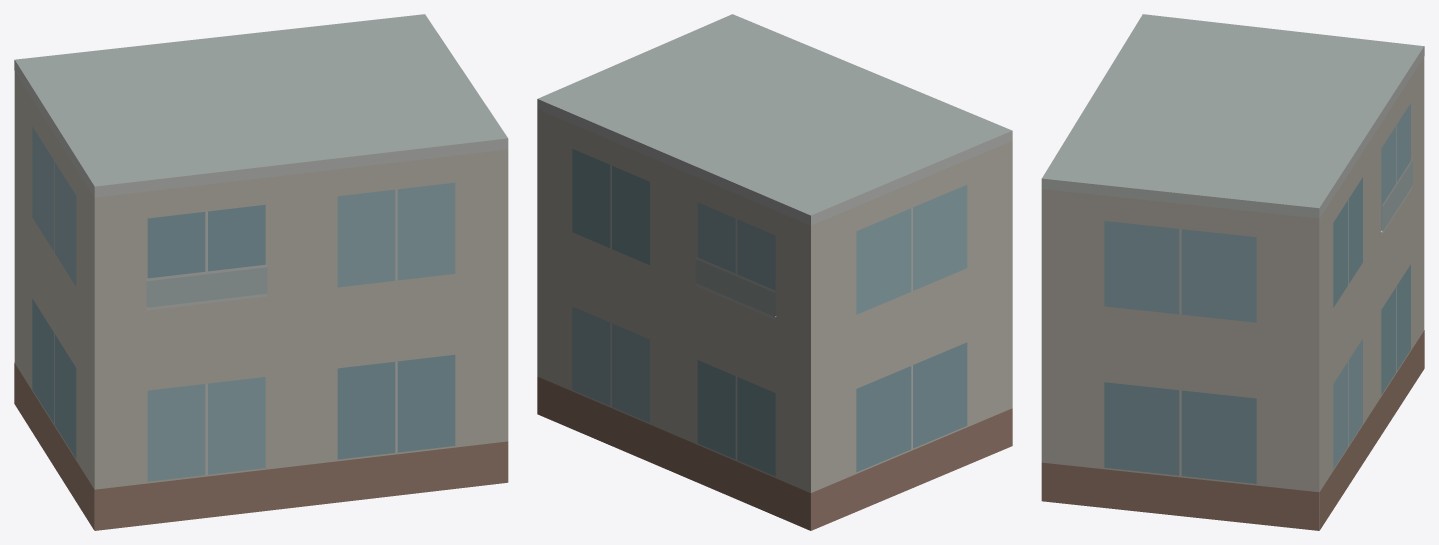
Rendered from survey-upis-33004015.glb.
3 renders of one model, left to right at view 1: azimuth 30°, elevation 25°; view 2: azimuth 150°, elevation 25°; view 3: azimuth 270°, elevation 25°, orthographic. The views are drawn at different scales.
Visible parts, largest first — view 1: survey-upis-33004015.tmp; view 2: survey-upis-33004015.tmp; view 3: survey-upis-33004015.tmp.
Boxes of the visible parts, x1=… form: survey-upis-33004015.tmp: x1=14, y1=14, x2=508, y2=530; survey-upis-33004015.tmp: x1=537, y1=14, x2=1012, y2=530; survey-upis-33004015.tmp: x1=1041, y1=14, x2=1424, y2=530.
Size of the model in its own units: 9.82 by 7.6 by 8.18.
